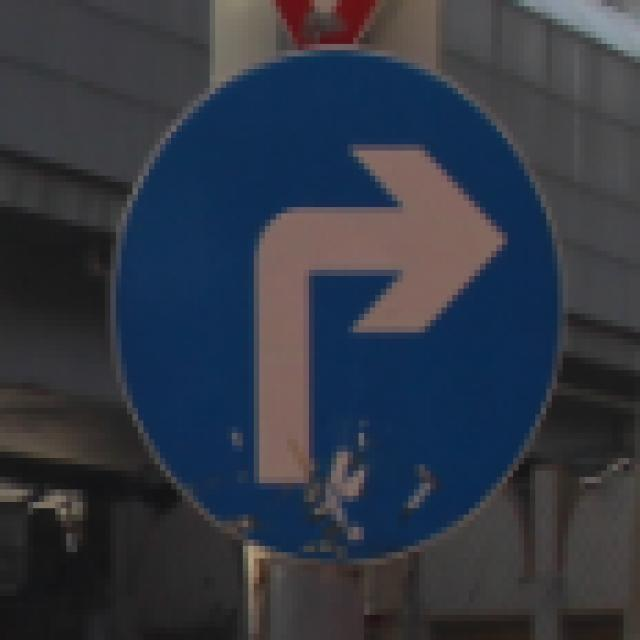Right: (112, 35, 577, 571)
